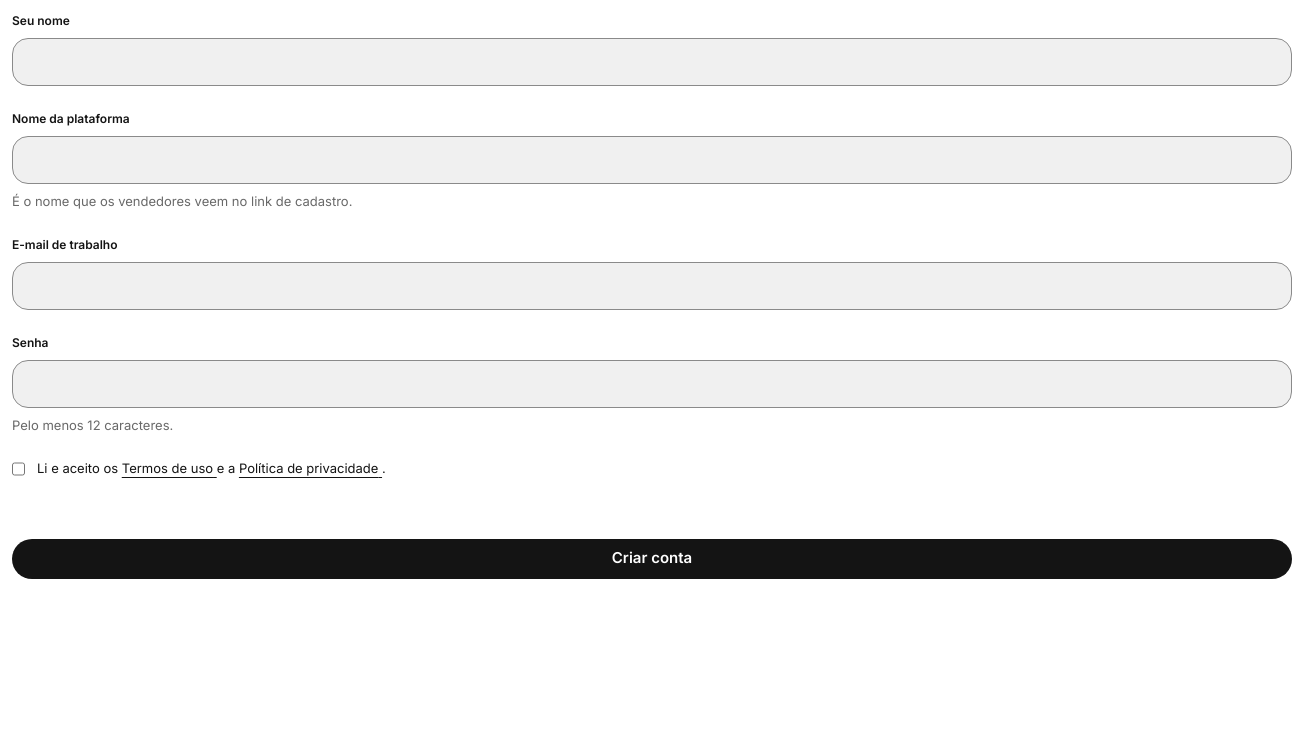
SignupForm (S1, AC 1, AC 2) › {"ok":false,"code":"LIMITE_TENTATIVAS","retryAfterSeconds":540} → the form alert says Tente de novo em 9 min., values kept
Type "Pessoa Exemplo" into the field labelled "Seu nome" at (652, 62), box top-left (12, 38), bottom-right (1292, 86)
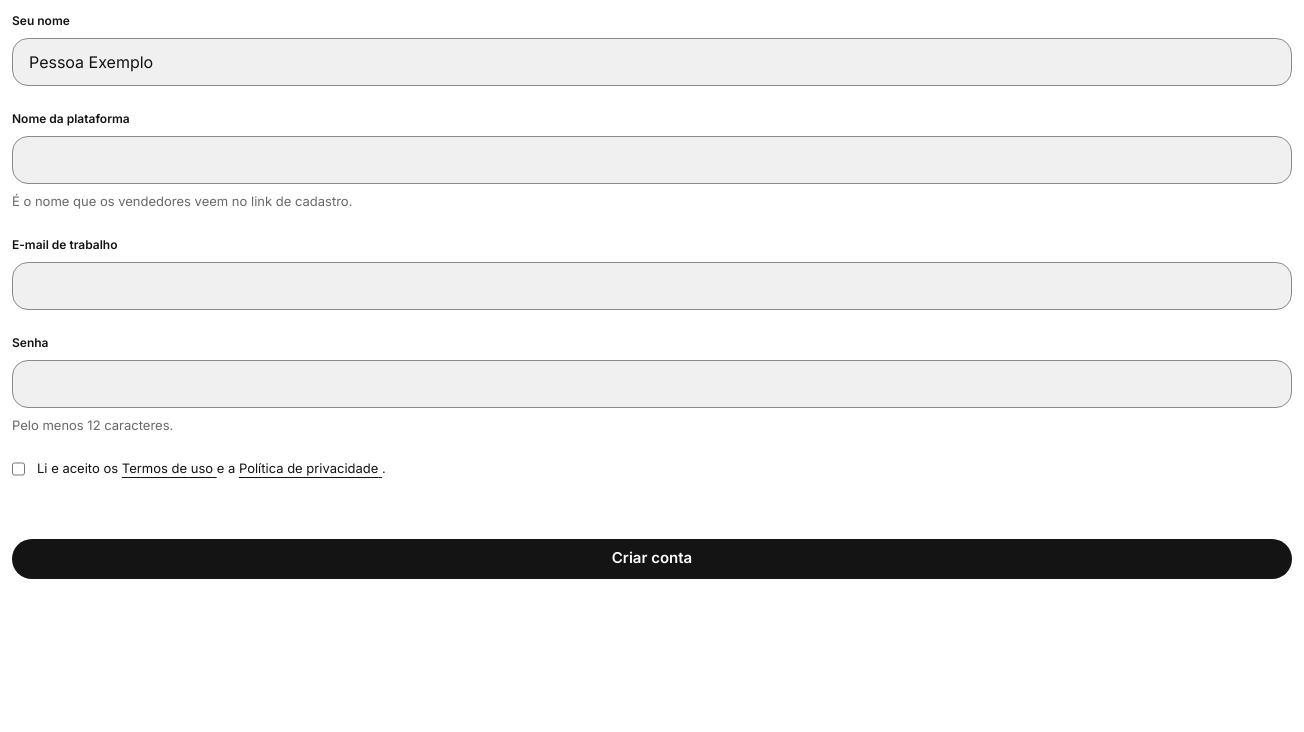
Type "Plataforma" into the field labelled "Nome da plataforma" at (652, 160), box top-left (12, 136), bottom-right (1292, 184)
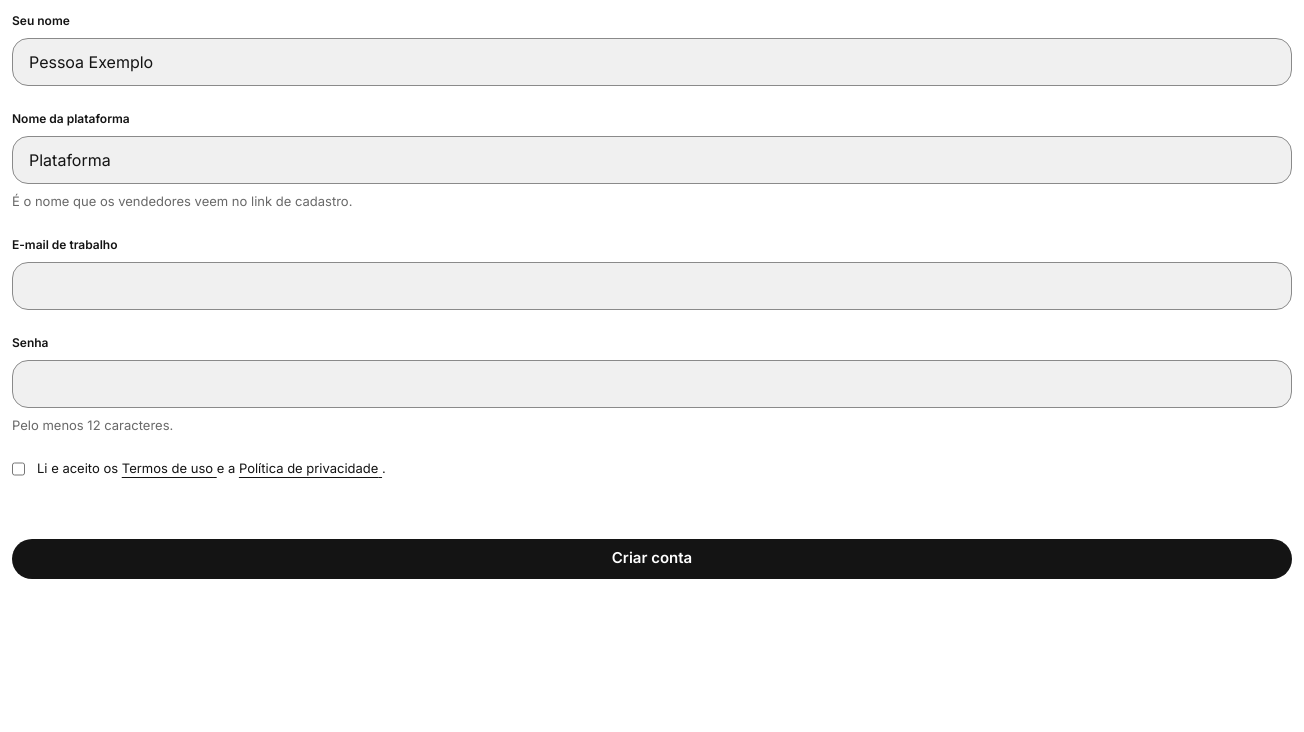
Type "pessoa@exemplo.test" into the field labelled "E-mail de trabalho" at (652, 286), box top-left (12, 262), bottom-right (1292, 310)
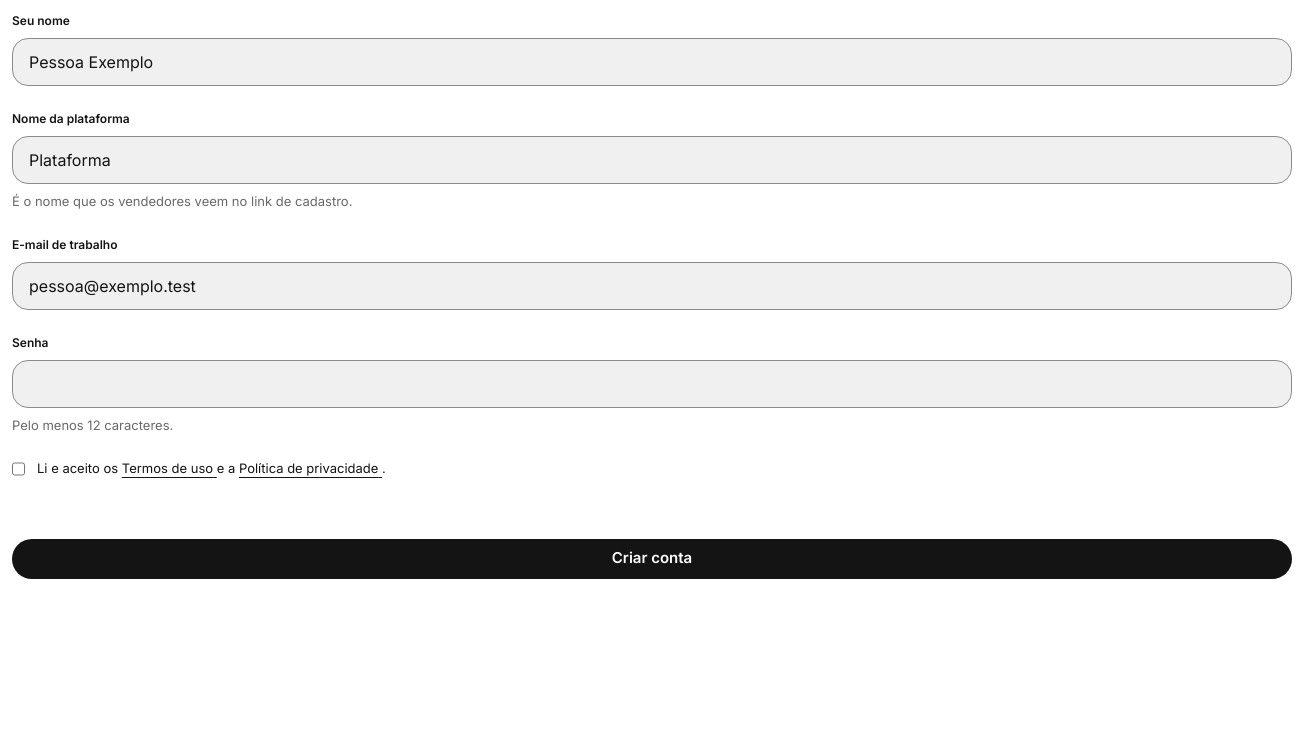
Type "senha-longa-123" into the password field labelled "Senha" at (652, 384), box top-left (12, 360), bottom-right (1292, 408)
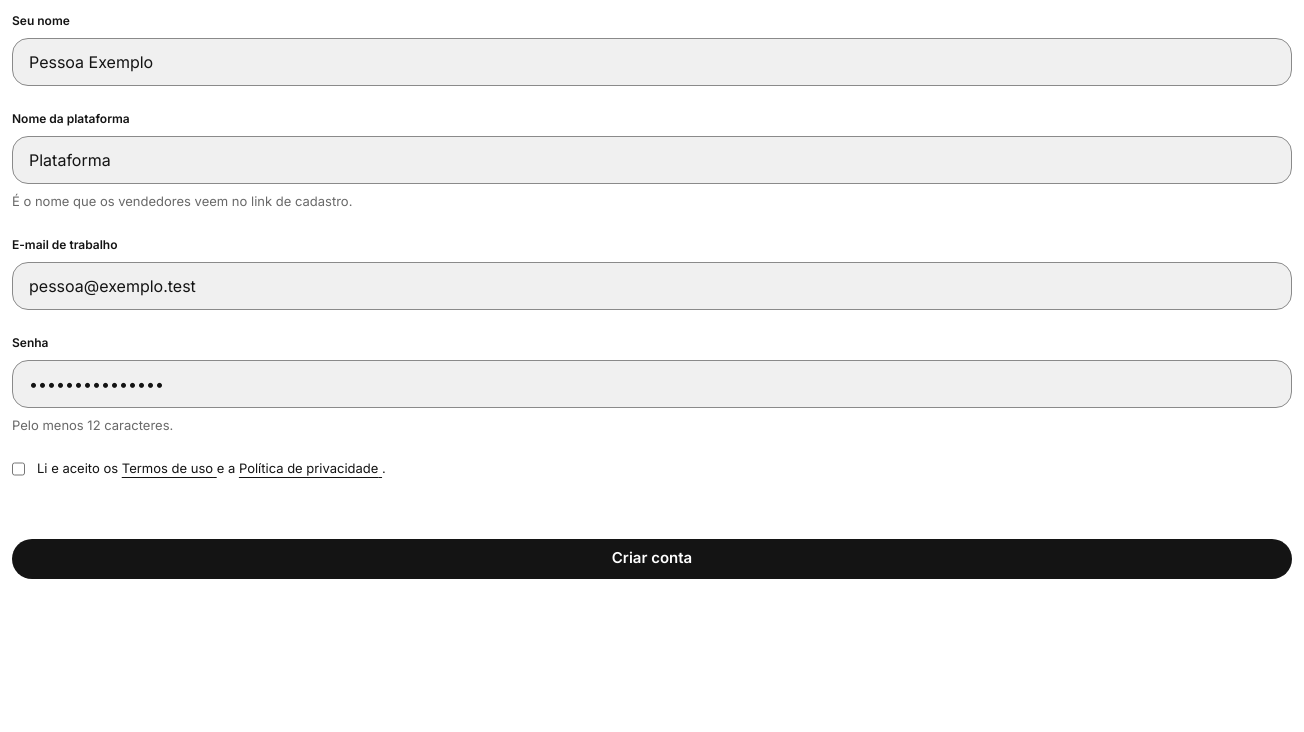
Click the checkbox at (18, 469), box top-left (12, 459), bottom-right (25, 478)
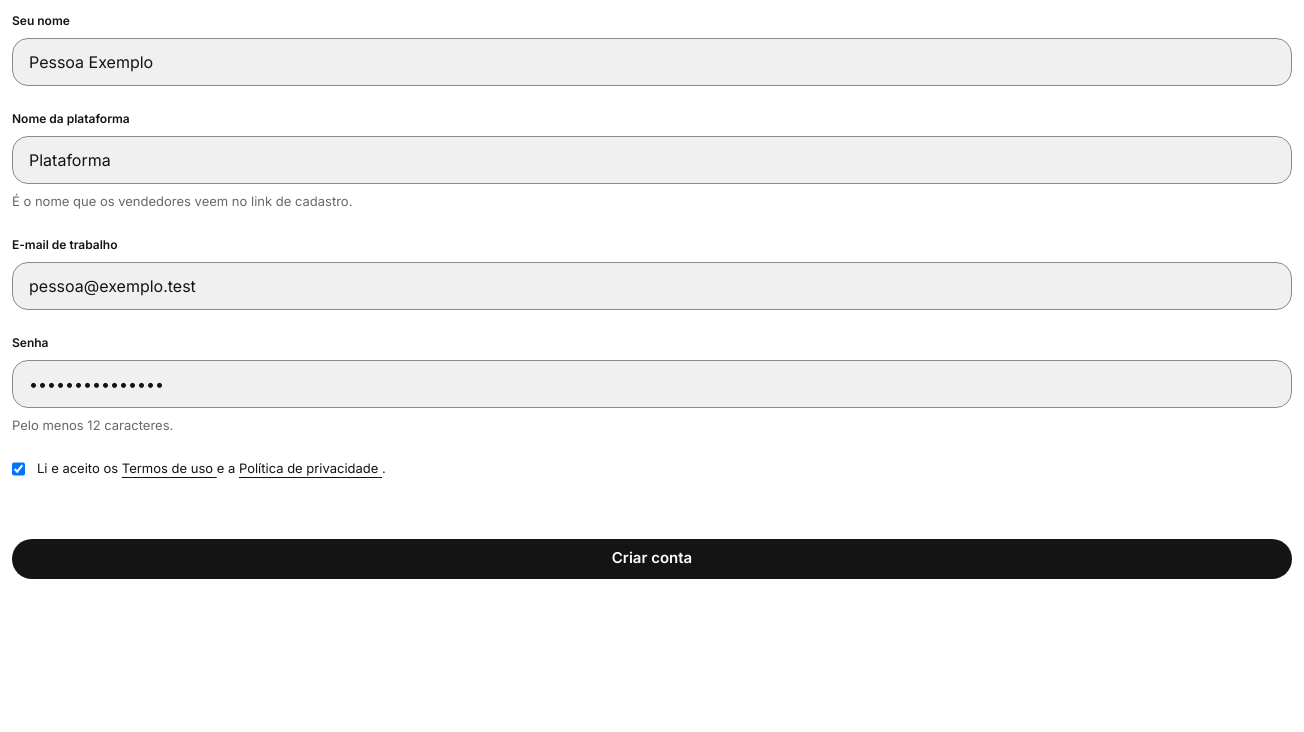
Click the button "Criar conta" at (652, 558), box top-left (12, 538), bottom-right (1292, 578)
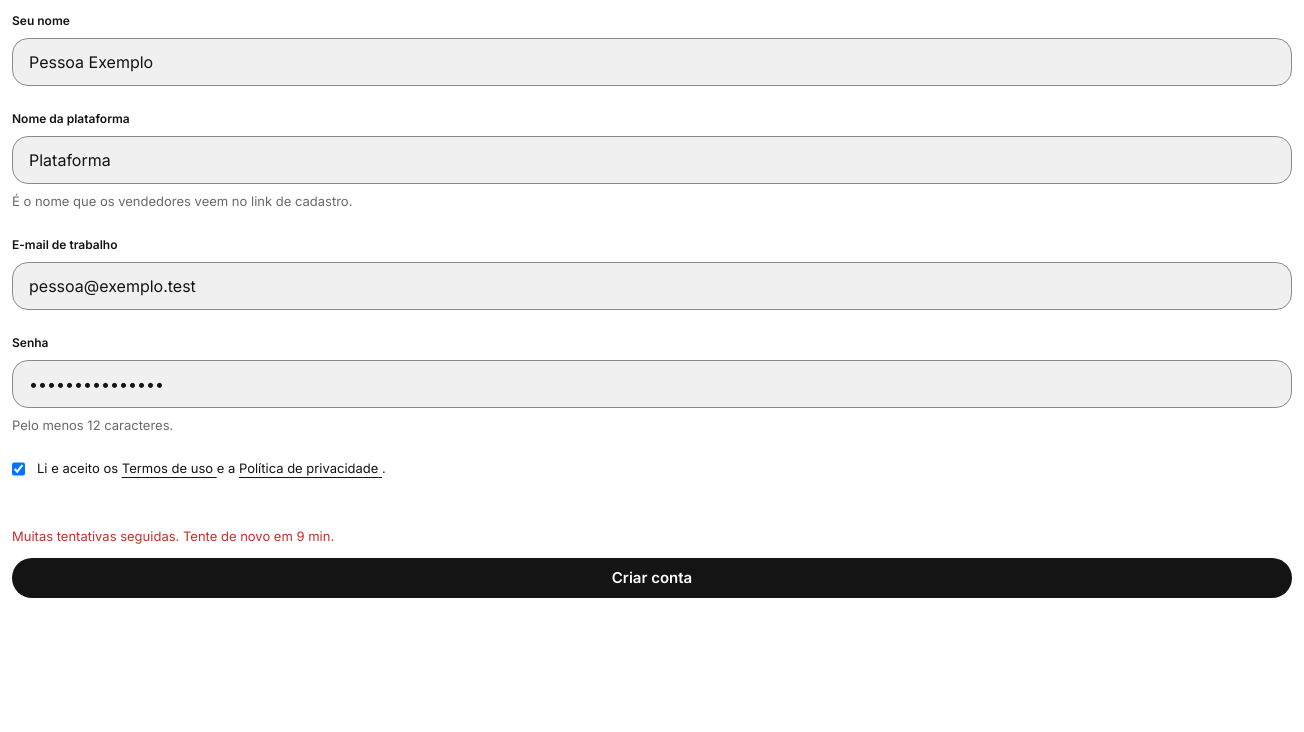
Result: the message shows "Tente de novo em 9 min." at top-left (12, 528), bottom-right (334, 544)
